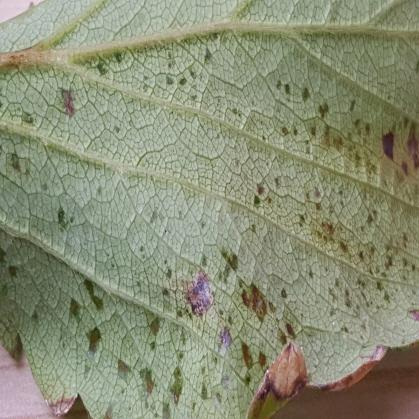Angular Leafspot: (0, 27, 418, 418)
